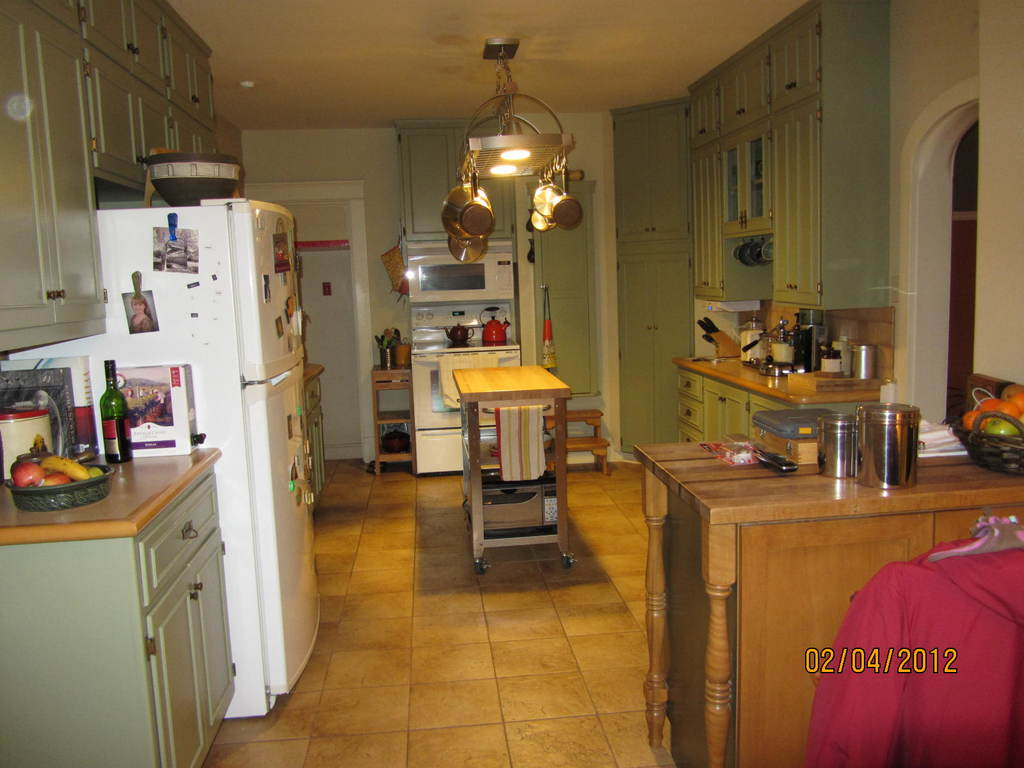cabinet door: (34, 44, 86, 327), (2, 53, 45, 345), (150, 592, 200, 752), (651, 254, 686, 438), (622, 254, 652, 446), (790, 114, 818, 300), (195, 562, 231, 698), (89, 66, 136, 164), (650, 110, 683, 244), (621, 116, 654, 245), (142, 508, 220, 551), (738, 135, 770, 228), (774, 125, 791, 297), (698, 153, 718, 292), (134, 89, 166, 155), (97, 5, 134, 61), (718, 148, 743, 230), (687, 150, 701, 292), (134, 11, 163, 74), (786, 33, 817, 91), (187, 47, 214, 110), (738, 62, 764, 114), (166, 34, 186, 96), (716, 80, 742, 126), (723, 387, 746, 438), (769, 45, 790, 100), (172, 108, 194, 151), (701, 87, 718, 140), (703, 381, 721, 431), (679, 397, 705, 426), (690, 91, 703, 141), (675, 371, 700, 397), (676, 429, 705, 445)
handle: (182, 524, 204, 546), (189, 587, 203, 613), (194, 574, 211, 594)
refrigerator door: (249, 385, 306, 682), (238, 207, 296, 371)
